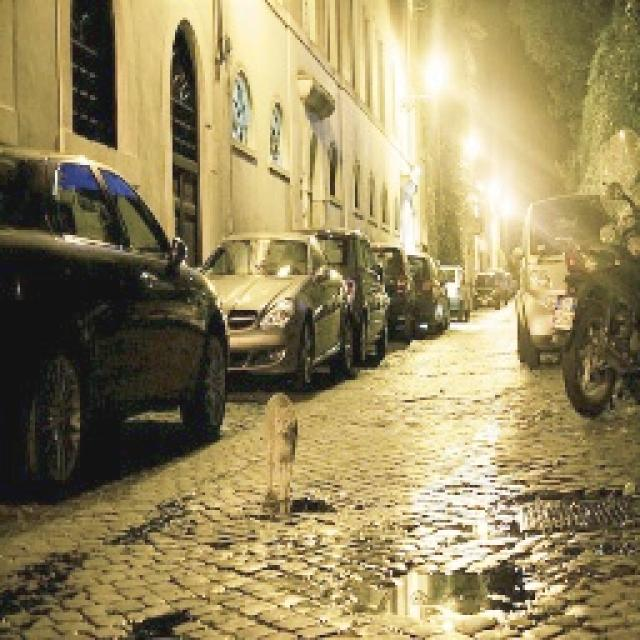cat: (242, 379, 308, 514)
